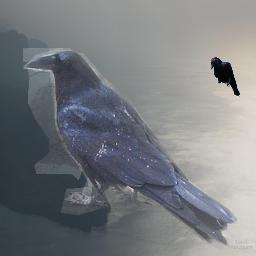Crow: (23, 48, 237, 250), (210, 57, 240, 98)
